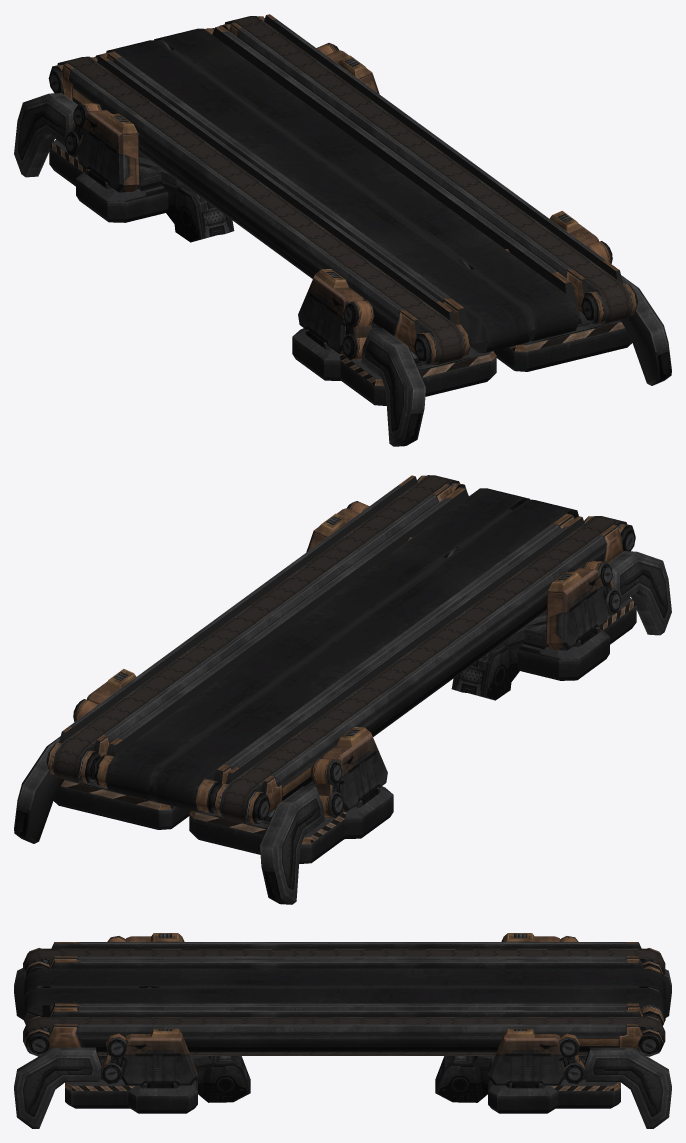
File: conveyorbeltbridge_00.fbx
3 views of the same model, one above another, from view 1: azimuth 30°, elevation 25°; view 2: azimuth 150°, elevation 25°; view 3: azimuth 270°, elevation 25° (orthographic). The views are drawn at different scales.
Parts seen in each view (by area): view 1: Geoset_1, Geoset_0, Geoset_24, Geoset_31, Geoset_26, Geoset_25, Geoset_27, Geoset_18, Geoset_12, Geoset_6, Geoset_14, Geoset_4 (+10 smaller); view 2: Geoset_1, Geoset_0, Geoset_24, Geoset_31, Geoset_26, Geoset_27, Geoset_25, Geoset_4, Geoset_3, Geoset_20, Geoset_18, Geoset_8 (+11 smaller); view 3: Geoset_25, Geoset_1, Geoset_31, Geoset_0, Geoset_27, Geoset_24, Geoset_26, Geoset_2, Geoset_13, Geoset_10, Geoset_16, Geoset_8 (+11 smaller).
Boxes of the visible parts, x1=… form: Geoset_1: x1=106, y1=40, x2=531, y2=352; Geoset_0: x1=154, y1=28, x2=578, y2=341; Geoset_24: x1=61, y1=55, x2=456, y2=353; Geoset_31: x1=106, y1=25, x2=579, y2=344; Geoset_26: x1=57, y1=56, x2=464, y2=364; Geoset_25: x1=229, y1=14, x2=623, y2=312; Geoset_27: x1=225, y1=16, x2=631, y2=324; Geoset_18: x1=292, y1=328, x2=496, y2=405; Geoset_12: x1=361, y1=328, x2=425, y2=446; Geoset_6: x1=77, y1=110, x2=139, y2=192; Geoset_14: x1=493, y1=311, x2=632, y2=371; Geoset_4: x1=49, y1=139, x2=168, y2=222; Geoset_1: x1=152, y1=499, x2=578, y2=812; Geoset_0: x1=105, y1=488, x2=529, y2=800; Geoset_24: x1=226, y1=516, x2=623, y2=811; Geoset_31: x1=106, y1=487, x2=574, y2=784; Geoset_26: x1=220, y1=516, x2=626, y2=824; Geoset_27: x1=53, y1=475, x2=459, y2=783; Geoset_25: x1=59, y1=475, x2=452, y2=756; Geoset_4: x1=189, y1=786, x2=393, y2=863; Geoset_3: x1=260, y1=786, x2=324, y2=904; Geoset_20: x1=546, y1=568, x2=608, y2=650; Geoset_18: x1=517, y1=597, x2=636, y2=680; Geoset_8: x1=53, y1=779, x2=190, y2=829; Geoset_25: x1=47, y1=1010, x2=642, y2=1052; Geoset_1: x1=23, y1=968, x2=665, y2=1015; Geoset_31: x1=42, y1=960, x2=642, y2=1016; Geoset_0: x1=23, y1=988, x2=665, y2=1024; Geoset_27: x1=23, y1=1017, x2=665, y2=1055; Geoset_24: x1=49, y1=942, x2=642, y2=968; Geoset_26: x1=23, y1=948, x2=665, y2=987; Geoset_2: x1=584, y1=1047, x2=671, y2=1128; Geoset_13: x1=14, y1=1047, x2=101, y2=1128; Geoset_10: x1=488, y1=1028, x2=564, y2=1088; Geoset_16: x1=121, y1=1028, x2=197, y2=1088; Geoset_8: x1=488, y1=1073, x2=620, y2=1113.
Bounding box in the file's own units: 6.17 × 2.31 × 14.73.
2 materials, 2 textured.
